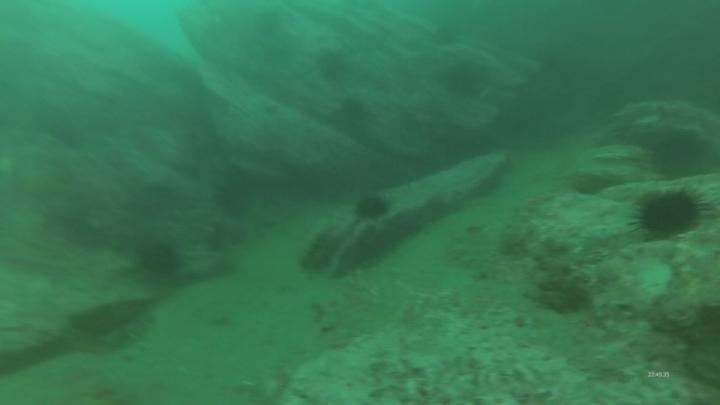echinus: (631, 185, 708, 243), (647, 128, 713, 183), (133, 237, 185, 284), (441, 59, 485, 100), (314, 47, 351, 85), (351, 191, 392, 224), (429, 23, 461, 51)
